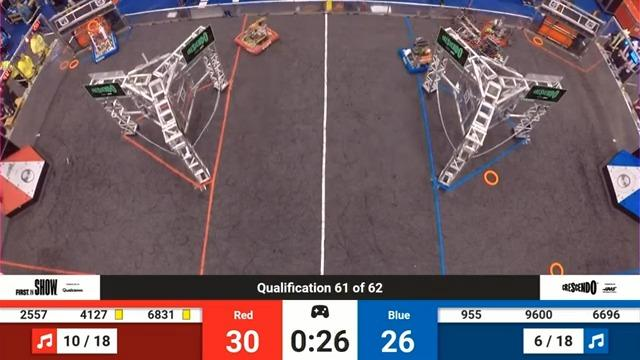robot: (235, 8, 281, 58), (438, 7, 484, 52), (394, 34, 441, 75), (83, 21, 123, 66), (473, 19, 526, 47), (474, 34, 508, 72)
